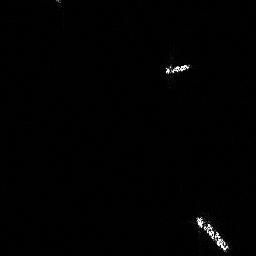ship: (191, 211, 233, 255), (162, 59, 193, 76)
